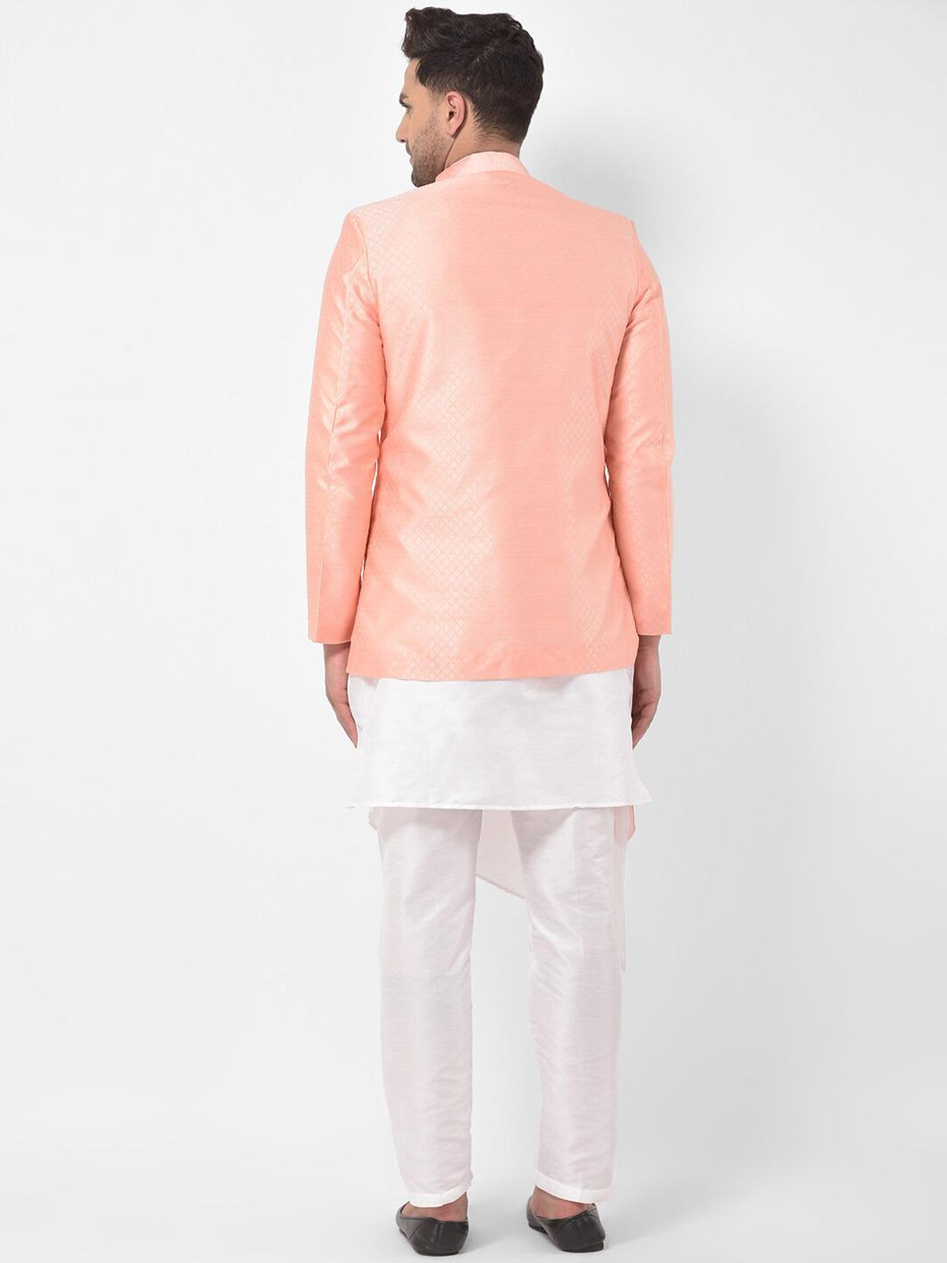Plain sherwani: (300, 153, 678, 684)
